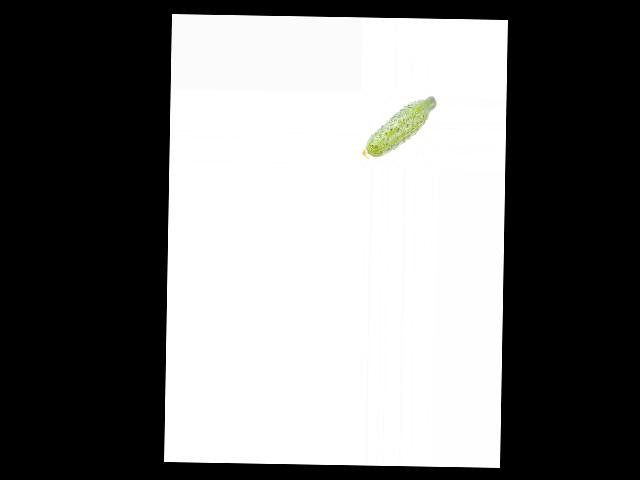cucumber: (361, 94, 435, 159)
